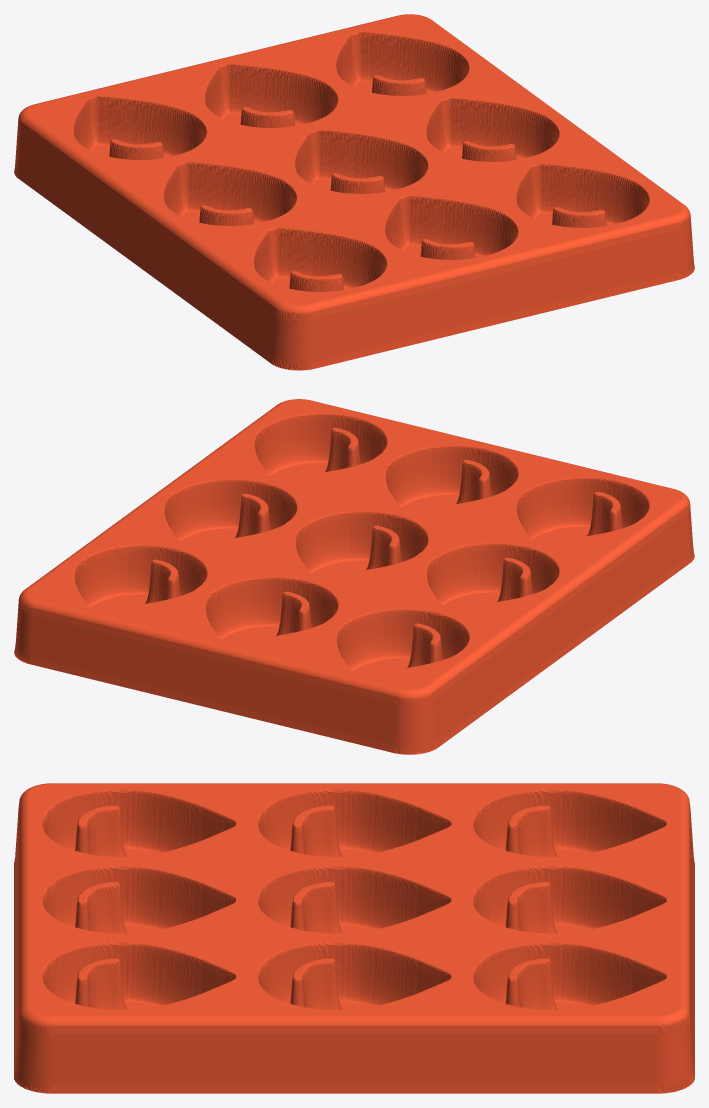
File: mold.glb
3 views of the same model, one above another, from view 1: azimuth 30°, elevation 25°; view 2: azimuth 150°, elevation 25°; view 3: azimuth 270°, elevation 25° (orthographic). The views are drawn at different scales.
Visible parts, largest first — view 1: geometry_0; view 2: geometry_0; view 3: geometry_0.
Boxes of the visible parts, x1=… form: geometry_0: x1=14, y1=14, x2=694, y2=370; geometry_0: x1=14, y1=399, x2=694, y2=754; geometry_0: x1=14, y1=783, x2=694, y2=1093.
Bounding box in the file's own units: 0.1355 × 0.0185 × 0.1595.
